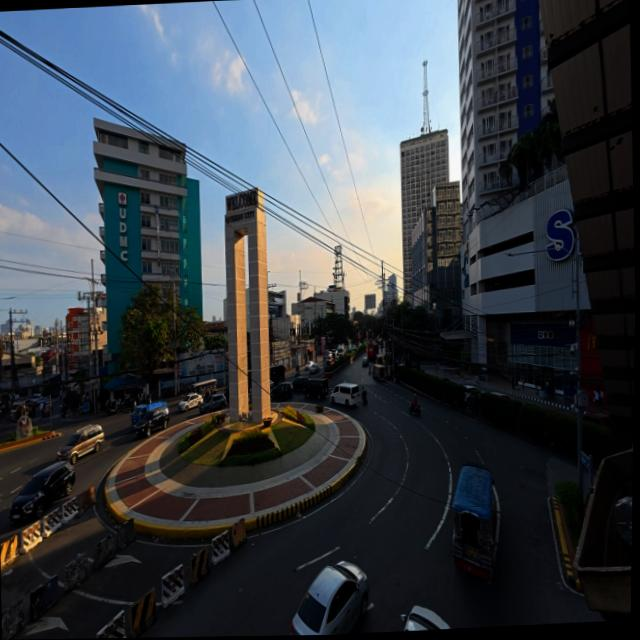Jeepneys: (452, 462, 498, 582), (191, 378, 217, 399), (372, 355, 386, 381), (372, 363, 385, 381), (376, 355, 384, 364)
bus: (368, 343, 375, 359)
car: (291, 561, 368, 635), (9, 462, 75, 521), (57, 424, 105, 464), (401, 606, 451, 630), (135, 407, 170, 438), (131, 401, 166, 428), (200, 394, 226, 414), (178, 393, 202, 411), (10, 401, 26, 421), (291, 375, 310, 391), (464, 385, 480, 403), (275, 382, 293, 397), (490, 391, 512, 399), (30, 393, 42, 403), (309, 363, 319, 374), (304, 361, 316, 370), (362, 357, 368, 368), (348, 343, 356, 351)
motorcycle: (107, 400, 119, 415), (410, 402, 421, 415), (42, 404, 52, 418), (362, 389, 368, 404), (294, 366, 300, 377), (61, 405, 66, 418)
trucks: (132, 401, 166, 428)
vans: (331, 383, 360, 406), (304, 378, 328, 398), (269, 365, 285, 385)
